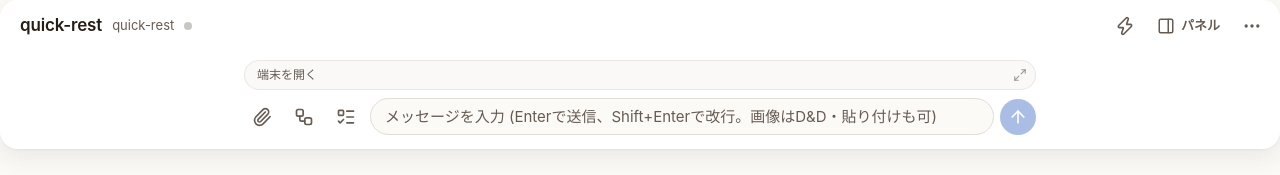
Test: PC上部バーの1タップ操作と、端末の窓の操作 › `…` には端末の操作を残さず、セッション全体の操作だけを置く
Click the button named "その他の操作" at (1252, 26), box left=1236, top=10, right=1268, bottom=42
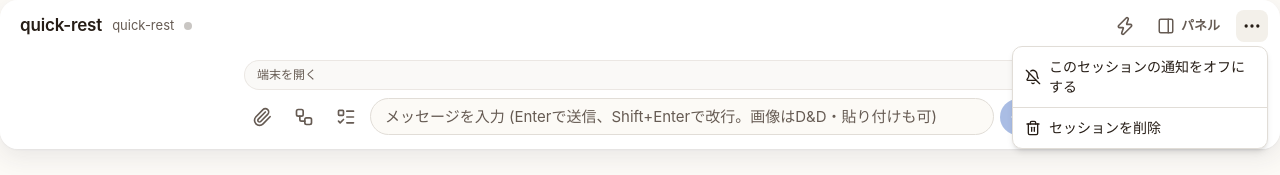
expect the menu shows "このセッションの通知をオフにする": met, box left=1049, top=58, right=1245, bottom=95
expect the menu shows "セッションを削除": met, box left=1049, top=119, right=1161, bottom=136
